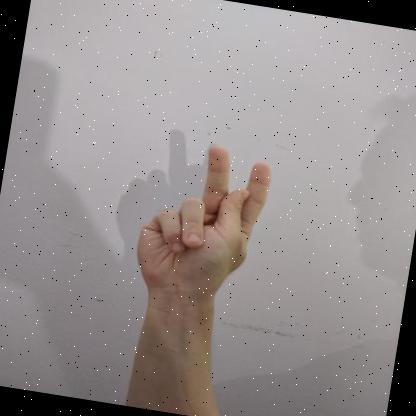K: (136, 145, 271, 306)
